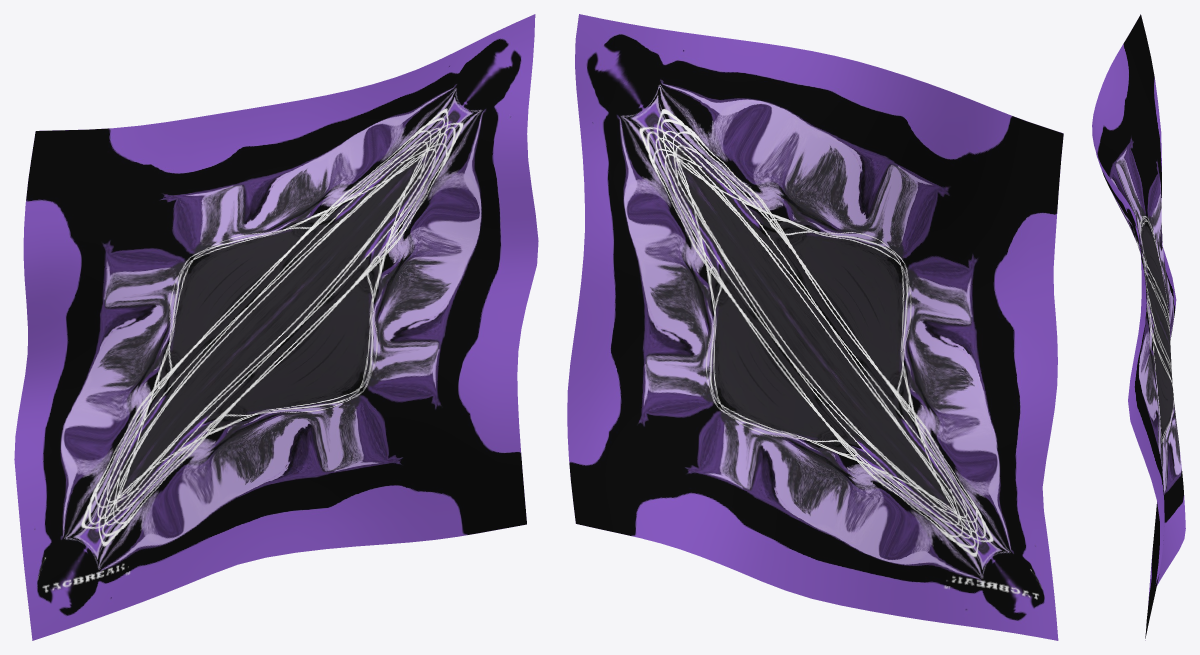
File: Thanos_Veil.glb
3 renders of one model, left to right at view 1: azimuth 30°, elevation 25°; view 2: azimuth 150°, elevation 25°; view 3: azimuth 270°, elevation 25°, orthographic. The views are drawn at different scales.
Visible parts, largest first — view 1: Plane; view 2: Plane; view 3: Plane.
Part boxes in pixels (x1,y1,x2,y2): Plane: (14, 14, 538, 640); Plane: (567, 14, 1063, 640); Plane: (1092, 14, 1185, 640).
Size of the model in its own units: 2.02 by 2 by 0.3968.
1 material, 1 textured.
